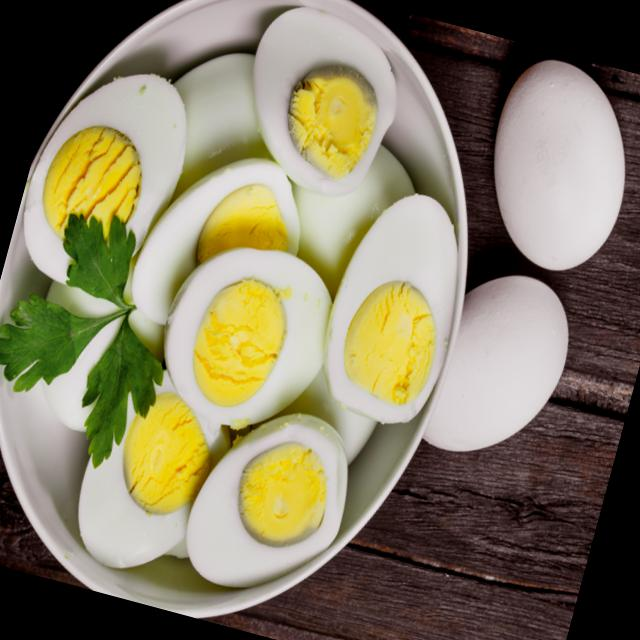rau ngo: (0, 214, 162, 467)
trung luoc: (23, 75, 186, 282), (323, 194, 457, 424), (77, 371, 229, 568), (164, 248, 330, 424), (186, 413, 346, 587), (131, 158, 298, 324), (253, 6, 396, 195), (289, 146, 414, 299), (169, 54, 271, 207), (42, 318, 122, 432), (282, 368, 375, 463), (47, 283, 116, 317), (134, 313, 161, 348)
